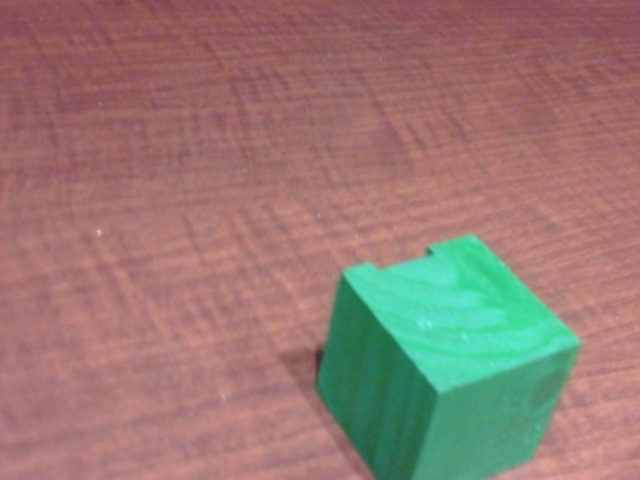GreenBlock: (314, 232, 579, 480)
